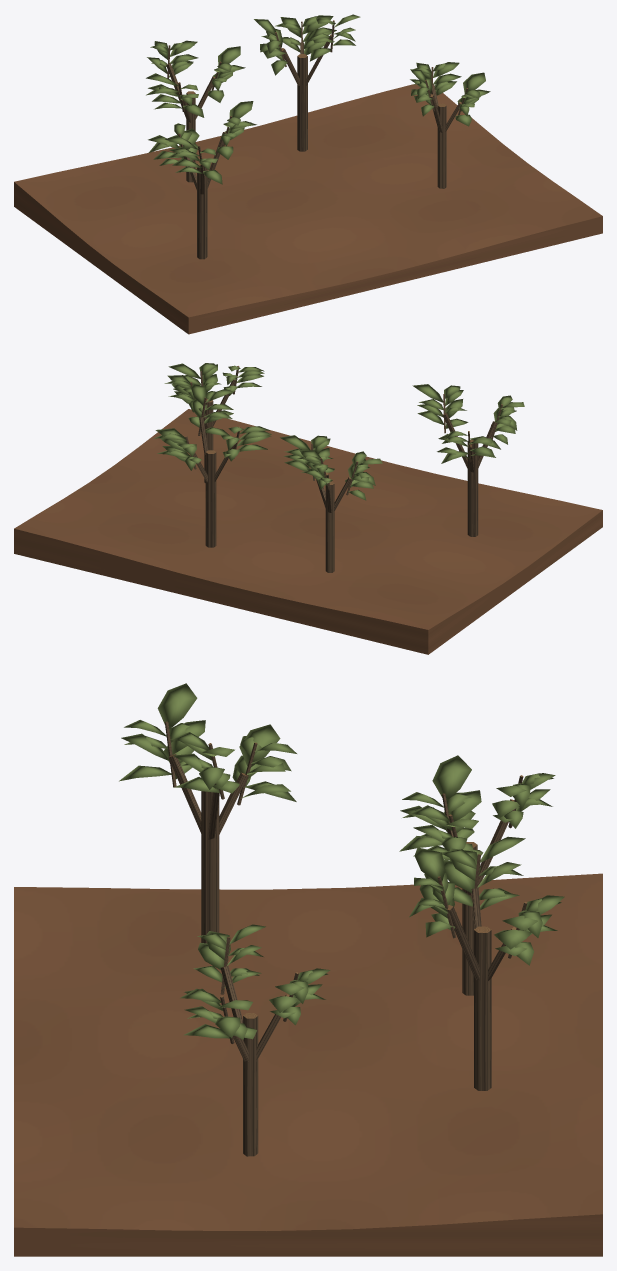
3 views of the same model, one above another, from view 1: azimuth 30°, elevation 25°; view 2: azimuth 150°, elevation 25°; view 3: azimuth 270°, elevation 25° (orthographic). The views are drawn at different scales.
Visible parts, largest first — view 1: helsinki; view 2: helsinki; view 3: helsinki.
Part boxes in pixels (<box>): helsinki: <box>14,14,602,334</box>; helsinki: <box>14,363,602,654</box>; helsinki: <box>14,683,602,1256</box>.
Size of the model in its own units: 6.42 by 2.4 by 4.68.
1 material, 1 textured.
